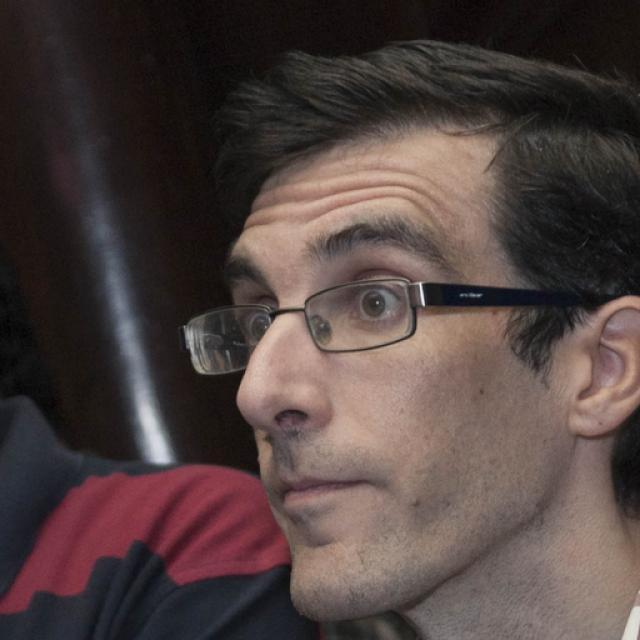surprise: (220, 115, 562, 624)
